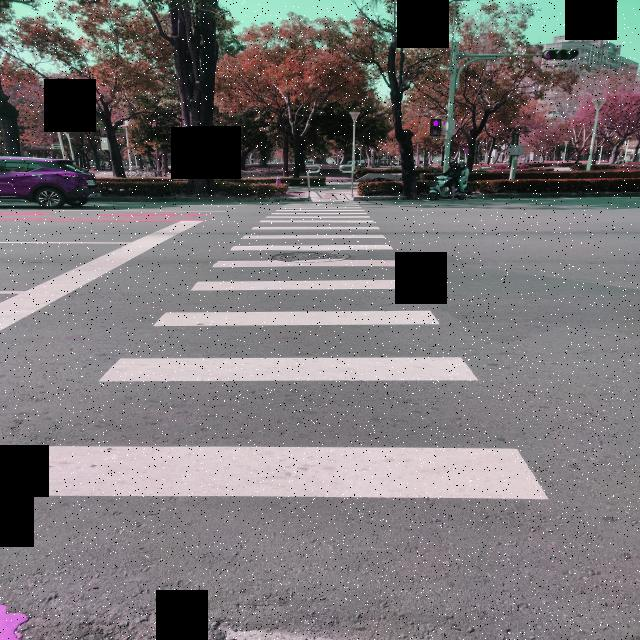zebra_crossing: (381, 395, 640, 600)
